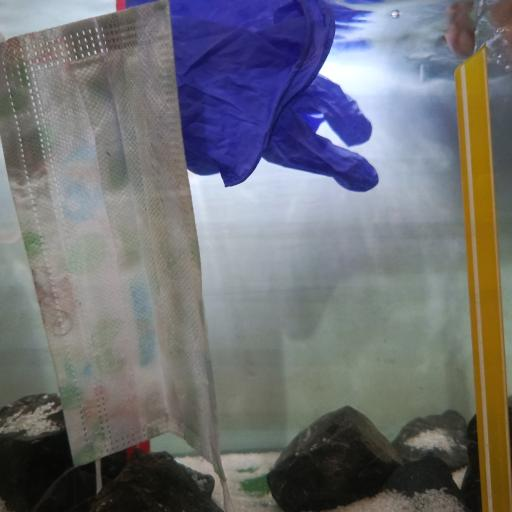glove: (123, 0, 382, 193)
mask: (0, 0, 228, 496)
plastic_straw: (453, 43, 512, 511)
